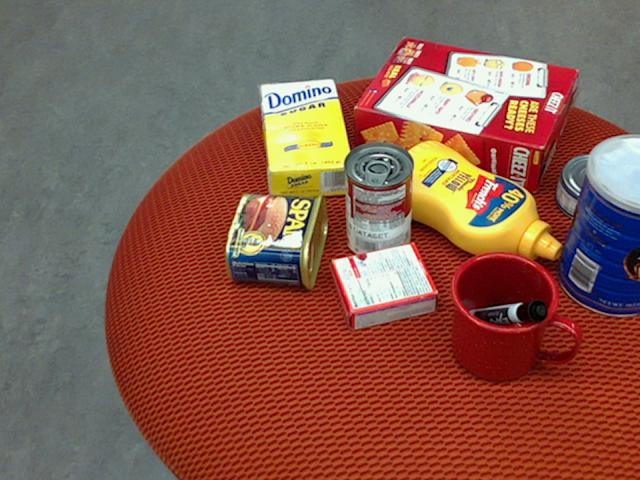cracker_box: (353, 36, 576, 190)
gelatin_box: (327, 244, 437, 331)
large_marker: (466, 298, 549, 328)
master_chef_can: (556, 133, 639, 316)
mug: (449, 251, 579, 382)
mustard_bottle: (380, 140, 561, 260)
potted_meat_can: (225, 193, 327, 289)
sugar_box: (258, 77, 355, 202)
tomato_soup_can: (342, 140, 413, 260)
tuna_fish_can: (554, 152, 639, 226)
